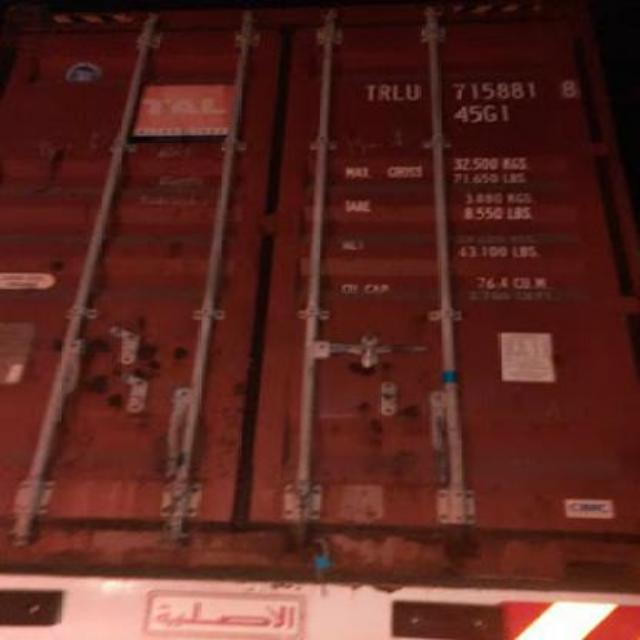1: (470, 81, 480, 102), (526, 81, 536, 97)
5: (482, 81, 496, 101)
7: (452, 83, 466, 101)
8: (512, 81, 526, 101), (496, 81, 509, 99), (562, 81, 576, 97)
L: (392, 82, 404, 102)
R: (378, 82, 392, 102)
T: (364, 84, 378, 100)
U: (406, 84, 419, 102)
